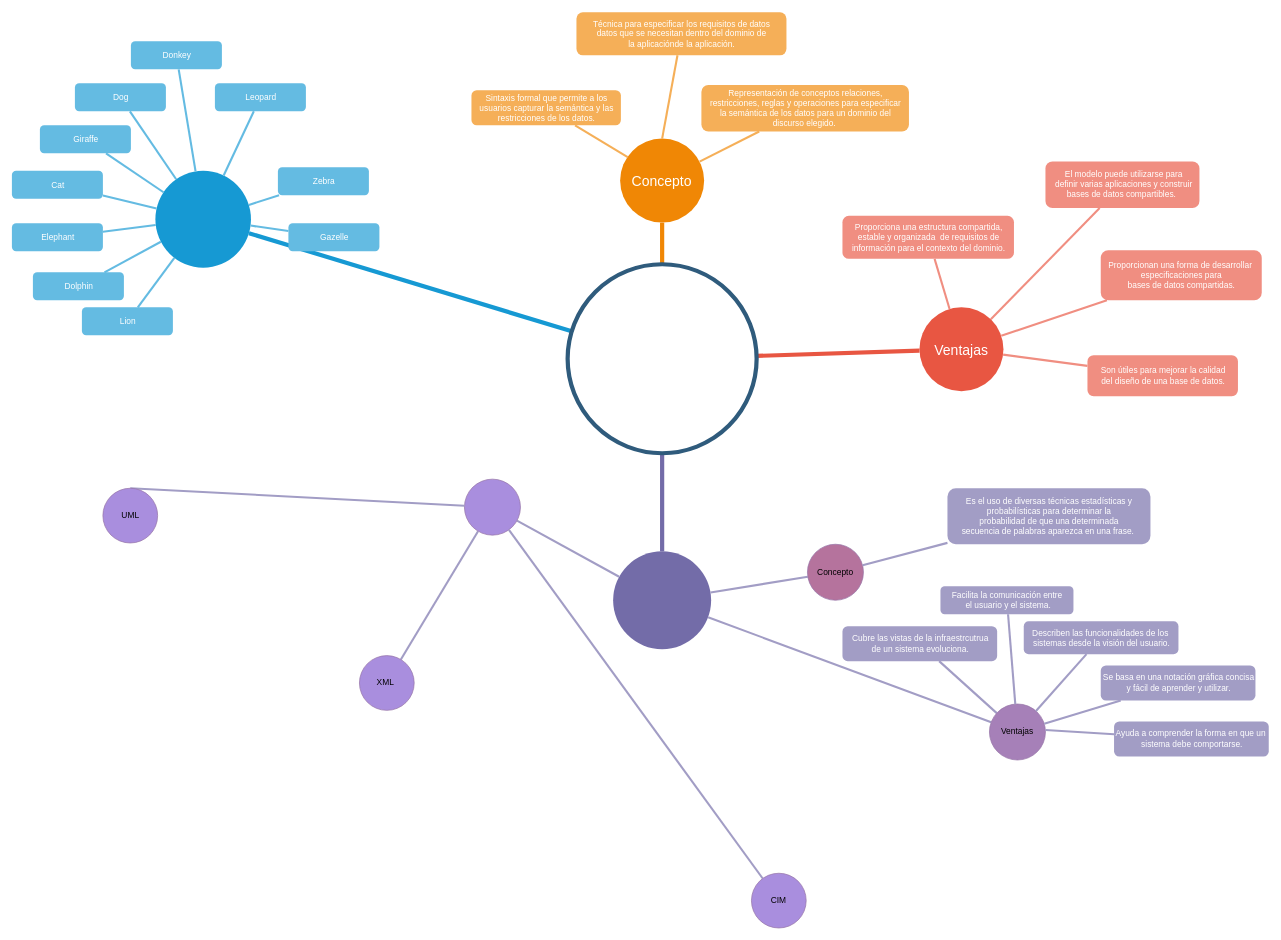
Image size: 1281x940. Some labels were removed from this diagram. The shapes that lost their labels are listed below. From the top down, each one's centre as x and y in pixels, then its label:
[203,218]: Caraterísticas
[661,358]: Modelos de Información
[492,506]: Tipos
[662,600]: Lenguajes de Modelado
